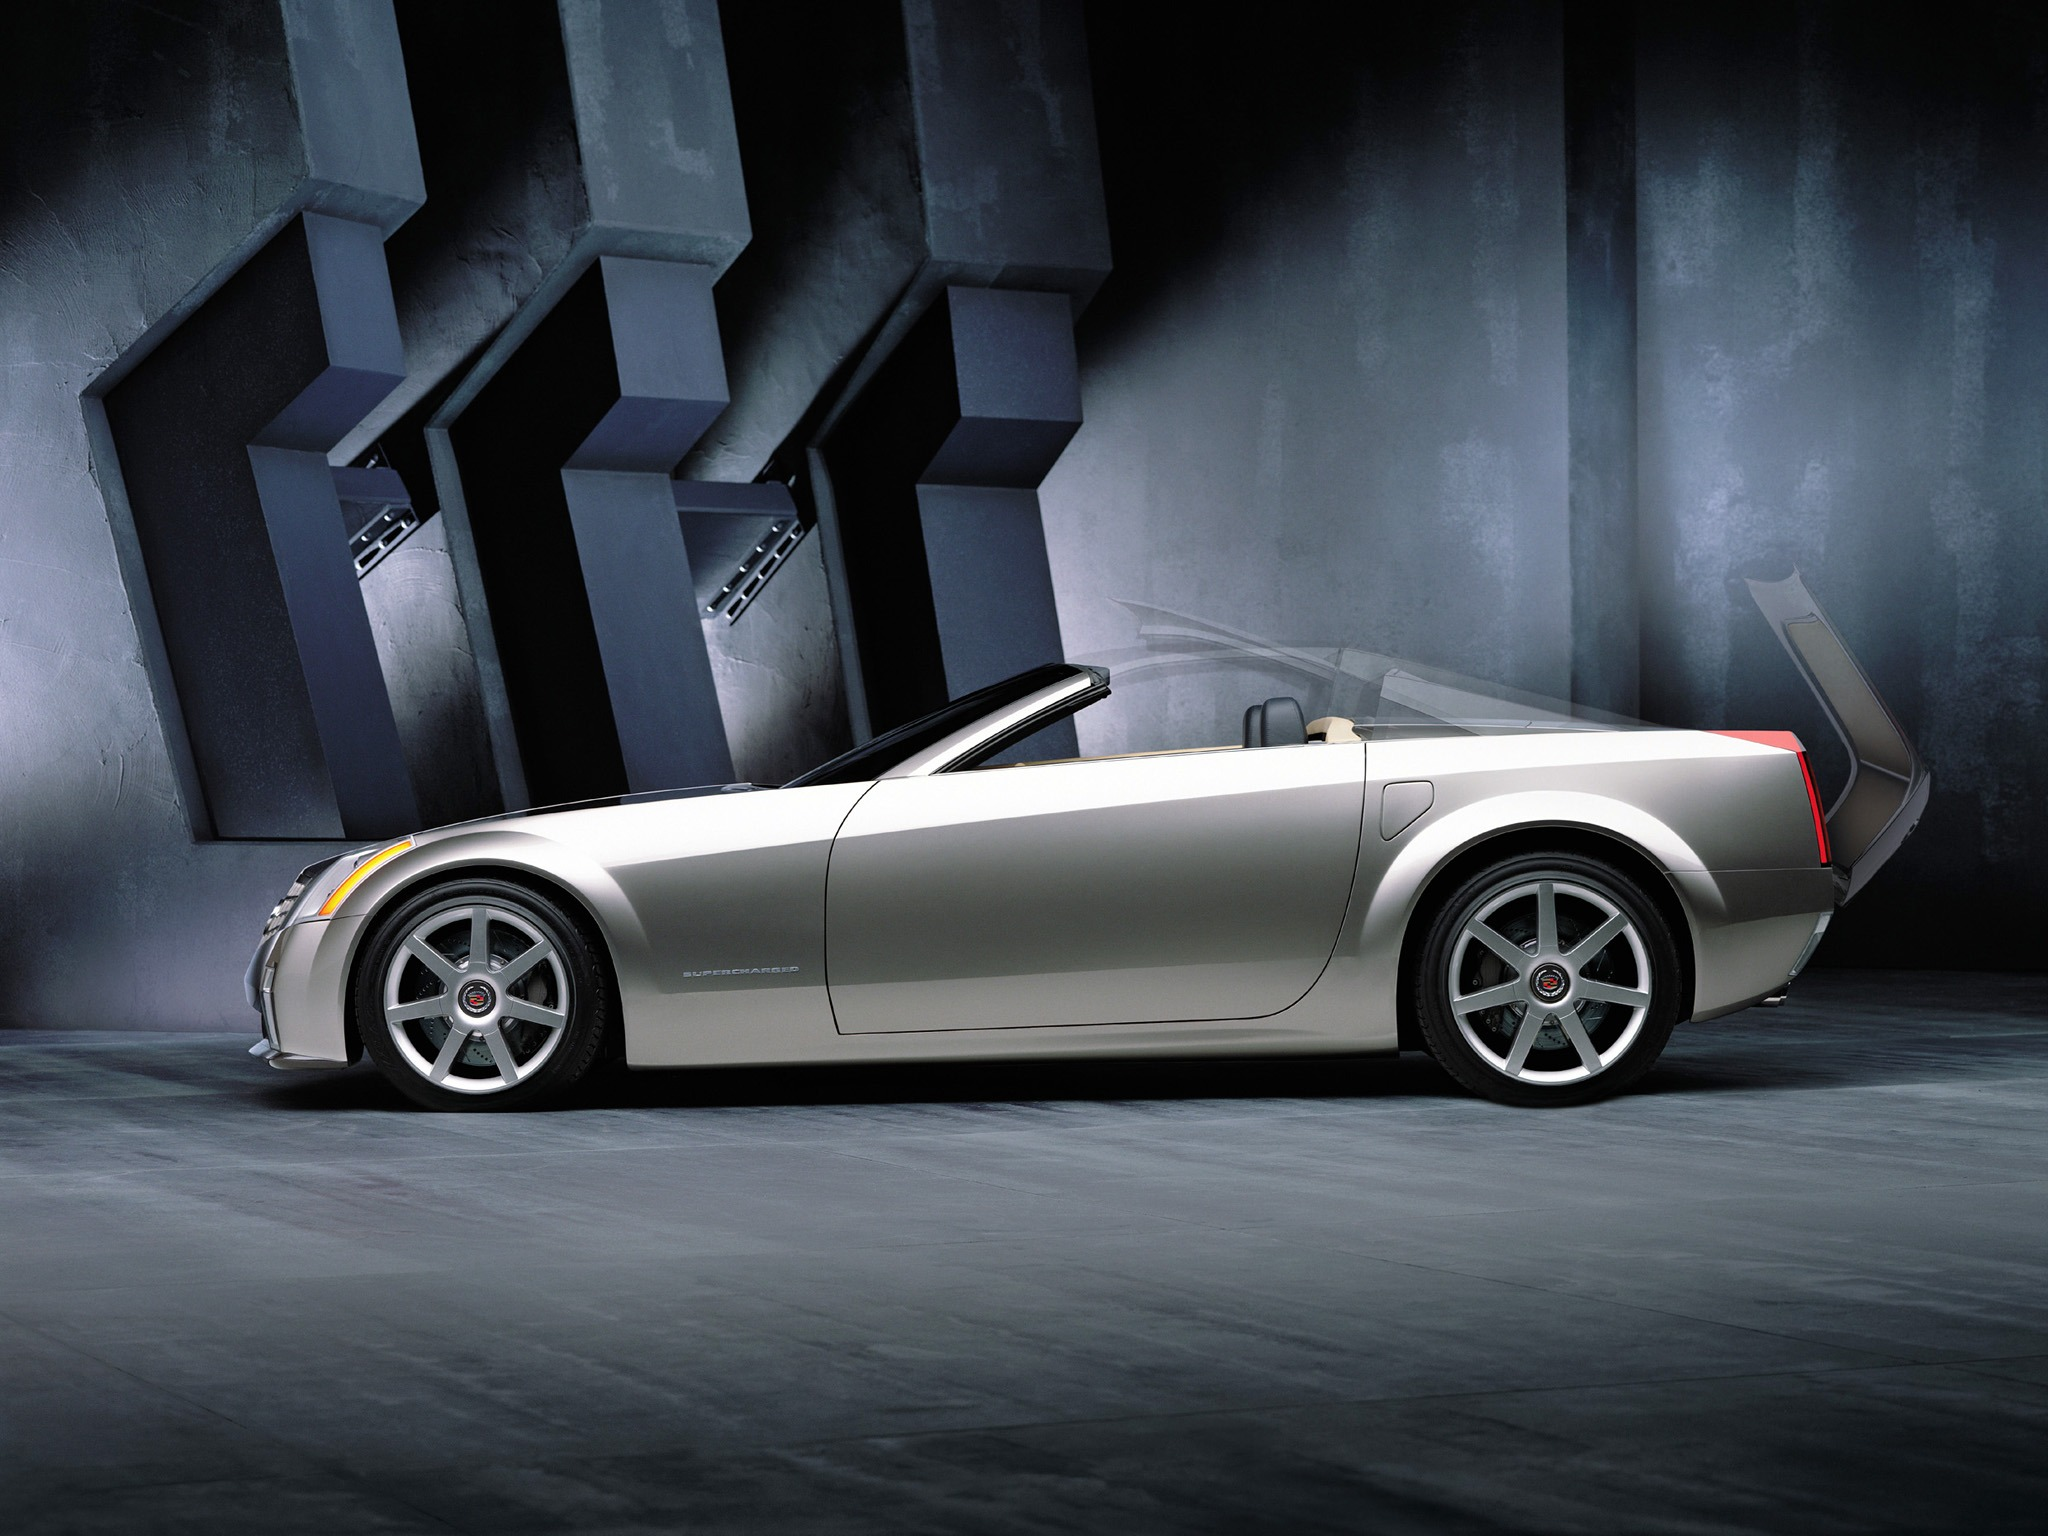headlight: (1780, 726, 1854, 887), (263, 845, 326, 947)
wheel: (1397, 808, 1688, 1099), (364, 891, 622, 1113)
